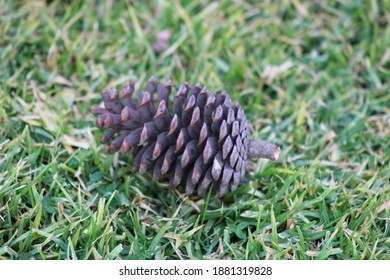Pc: (95, 78, 279, 197)
